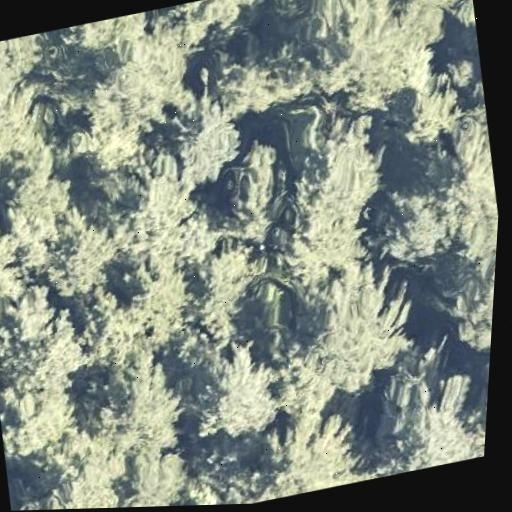tree-top: (254, 110, 394, 283), (295, 257, 428, 401), (52, 19, 194, 139), (305, 0, 443, 114), (71, 350, 197, 473), (0, 330, 101, 467), (371, 366, 489, 475), (192, 27, 318, 125), (181, 334, 288, 448), (211, 133, 309, 252), (262, 405, 375, 498), (361, 175, 458, 277), (32, 206, 124, 312), (59, 112, 148, 217), (113, 252, 206, 352), (159, 96, 255, 186), (4, 446, 134, 511), (428, 235, 497, 357), (386, 75, 469, 153), (113, 443, 195, 508), (0, 32, 51, 118), (0, 200, 35, 320)
